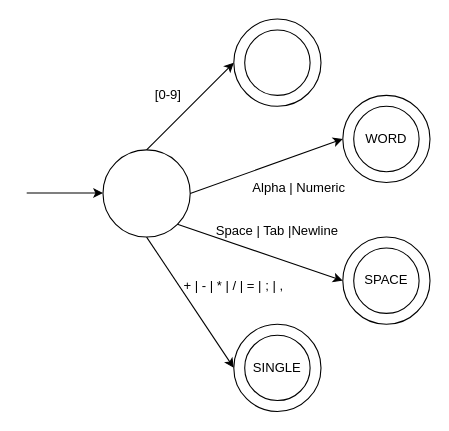
The diagram is 449 pixels wide and 431 high, and some of its shapes have lost their labels. The box of each missing label's shape, as (x1, y1, x2, y2) in pixels:
ERR: (102, 149, 190, 237)
INT_CONST: (244, 29, 310, 95)
